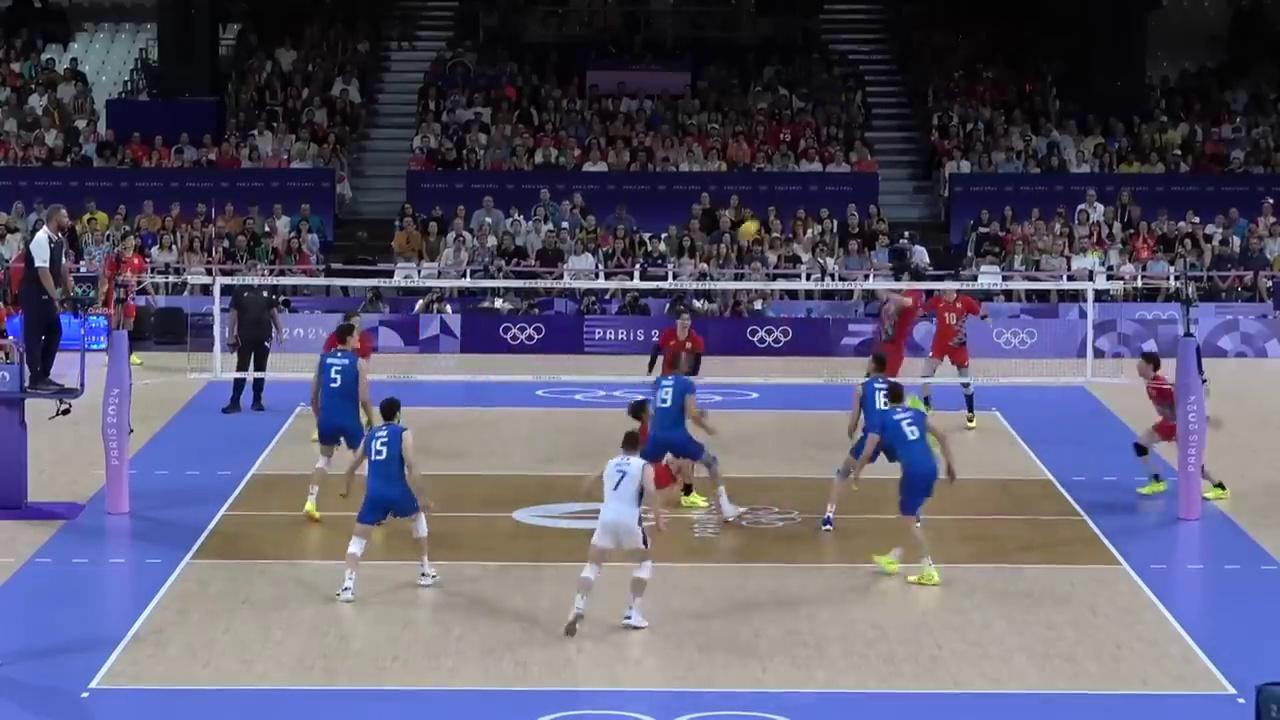ball: (734, 217, 761, 245)
